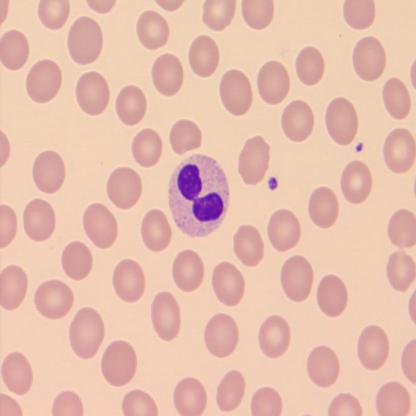Segmented neutrophil: (167, 151, 233, 241)
